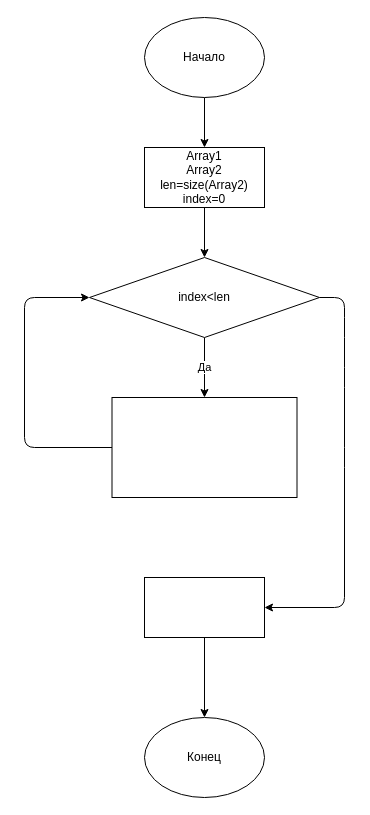
Some shapes in this 370 by 815 pixel diagram are drawn without their labels. The shapes that lost their labels are listed below. From the top down, each one's centre as x and y in pixels, then its label:
the point at 204,447: Array2[index]=Array1[index] index+=1
the point at 204,607: Array2
